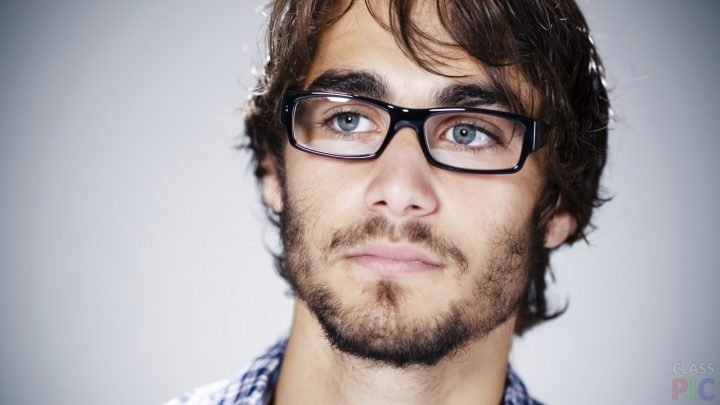glasses: (258, 76, 560, 185)
